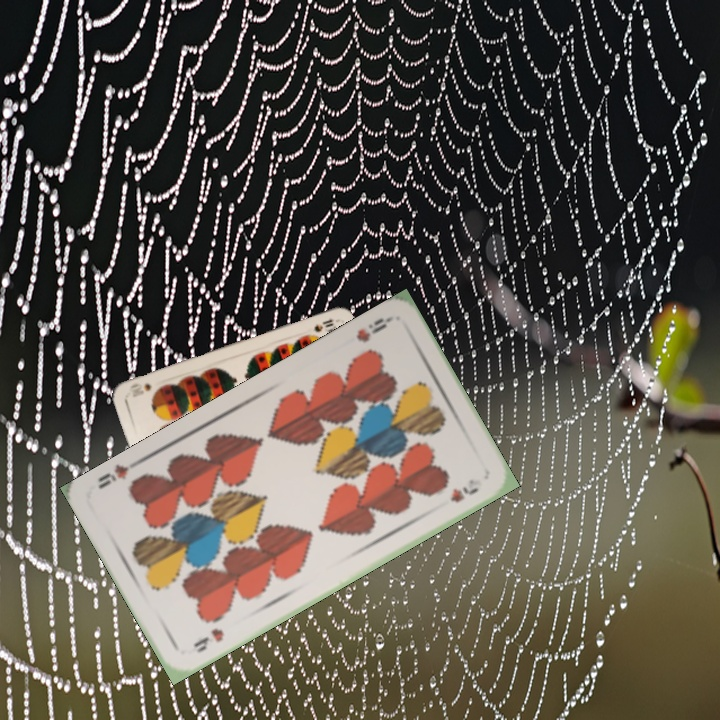H9: (352, 313, 394, 346), (188, 624, 227, 656)
S10: (303, 315, 338, 338)
